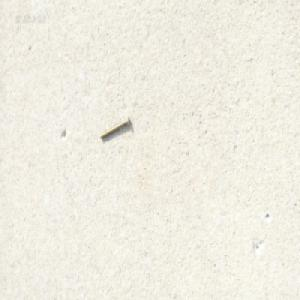Bolt: (99, 115, 130, 140)
